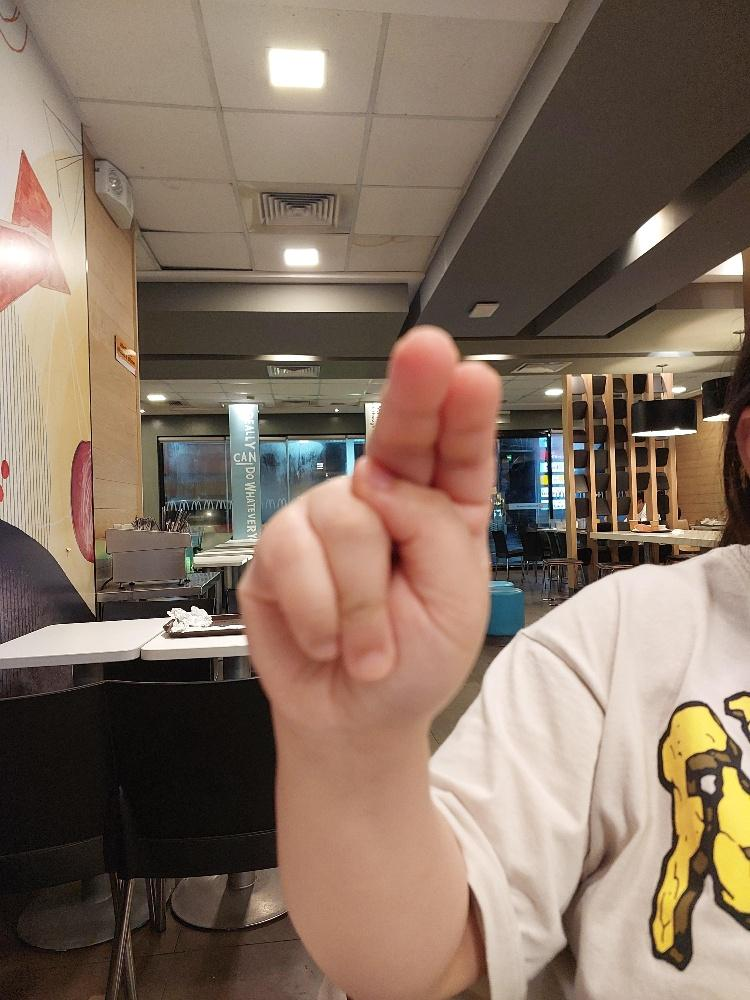n: (233, 322, 501, 740)
